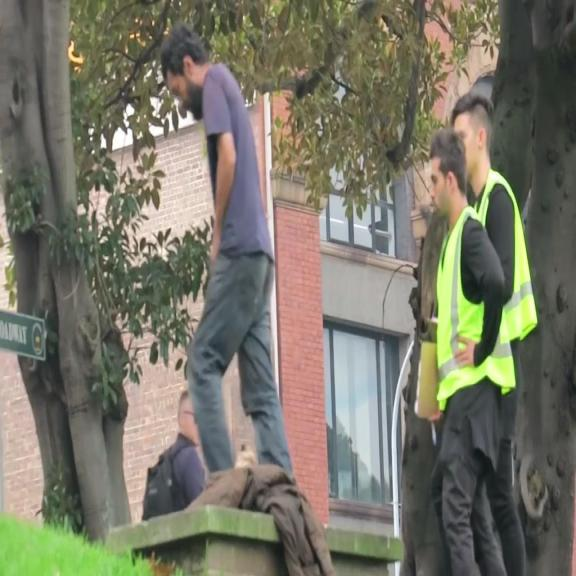safety_vest: (436, 205, 518, 408), (472, 166, 538, 343)
